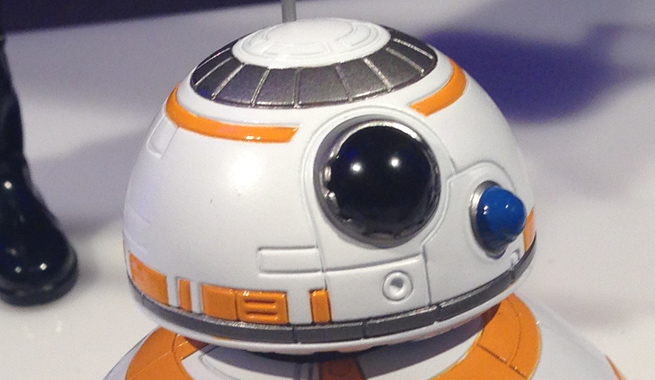bb8: (102, 18, 626, 380)
